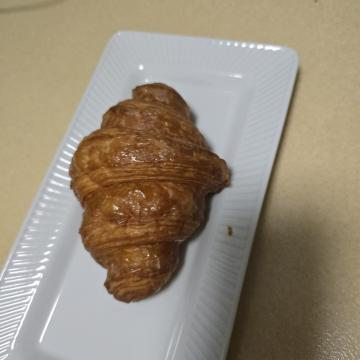croissant: (74, 124, 313, 306)
